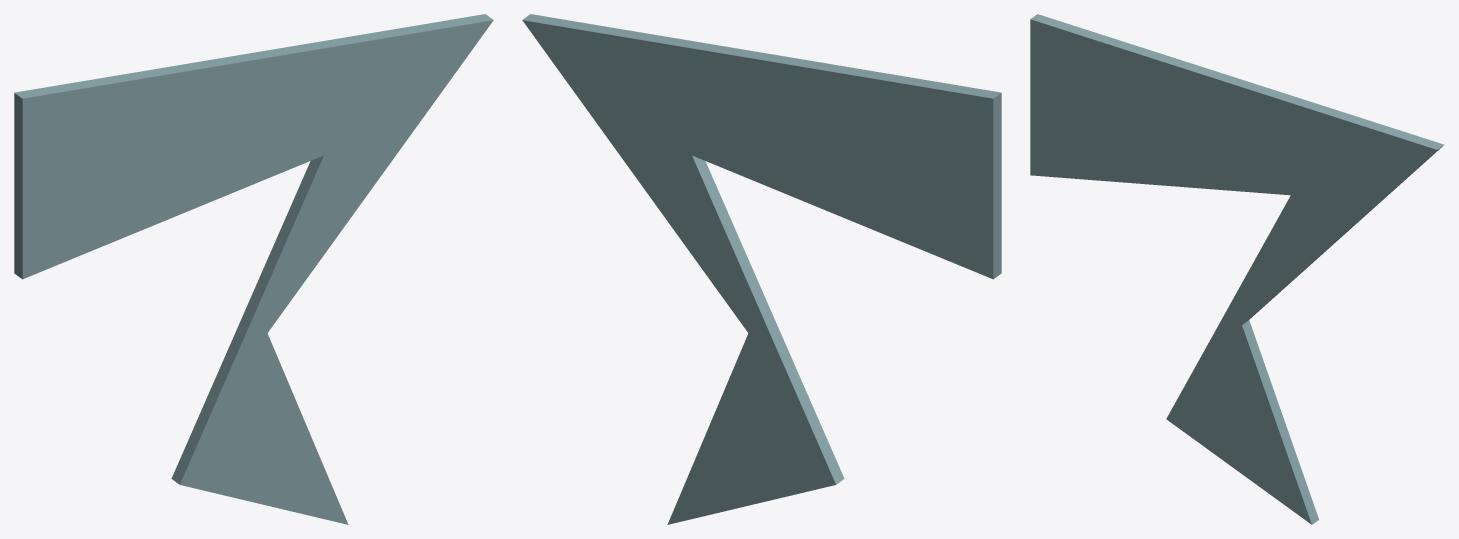
The model's file is ocean_3.glb.
3 renders of one model, left to right at view 1: azimuth 30°, elevation 25°; view 2: azimuth 150°, elevation 25°; view 3: azimuth 330°, elevation 25°, orthographic. The views are drawn at different scales.
Parts seen in each view (by area): view 1: ocean_3; view 2: ocean_3; view 3: ocean_3.
Boxes of the visible parts, x1,y1,x2,y2 form: ocean_3: (14,14,493,524); ocean_3: (522,14,1001,524); ocean_3: (1030,14,1444,524).
Size of the model in its own units: 9.77 by 10.02 by 0.3.
